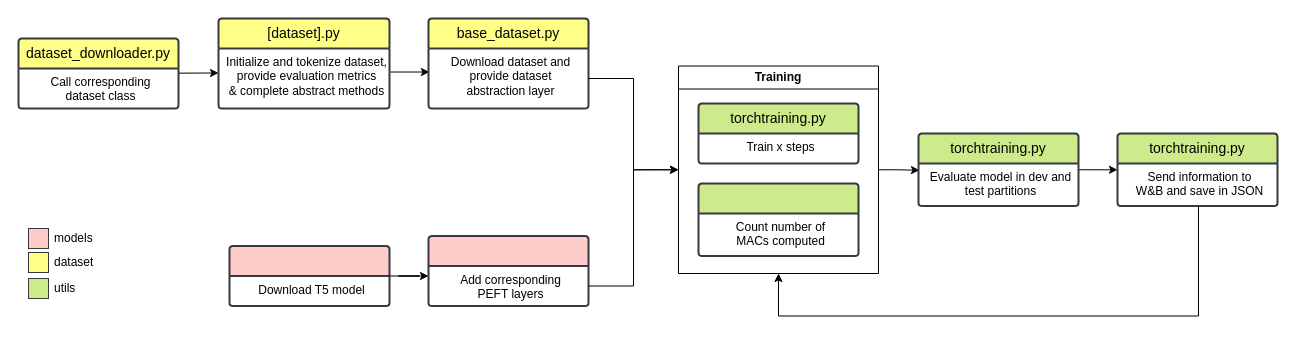
Some shapes in this 1295 by 341 pixel diagram are drawn without their labels. The shapes that lost their labels are listed below. From the top down, each one's box as (x1, y1, x2, y2) in pixels, then its label:
(697, 182, 859, 256): torch_macs.py
(228, 244, 390, 306): orig_model.py
(427, 234, 589, 306): peft_convert.py
